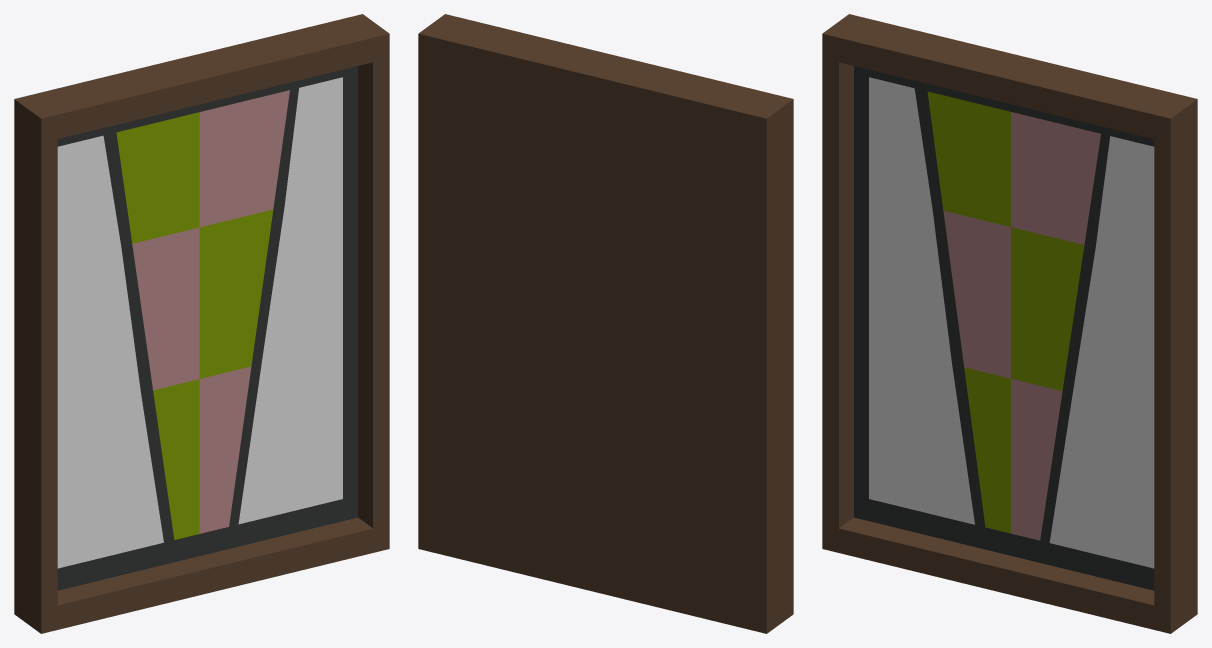
Rendered from painting3.fbx.
3 renders of one model, left to right at view 1: azimuth 30°, elevation 25°; view 2: azimuth 150°, elevation 25°; view 3: azimuth 330°, elevation 25°, orthographic.
Parts seen in each view (by area): view 1: pCube2; view 2: pCube2; view 3: pCube2.
Boxes of the visible parts, bbox=[...] form: pCube2: bbox=[14, 14, 389, 633]; pCube2: bbox=[418, 14, 793, 633]; pCube2: bbox=[822, 14, 1197, 633].
Size of the model in its own units: 3.61 by 5.11 by 0.4839.
